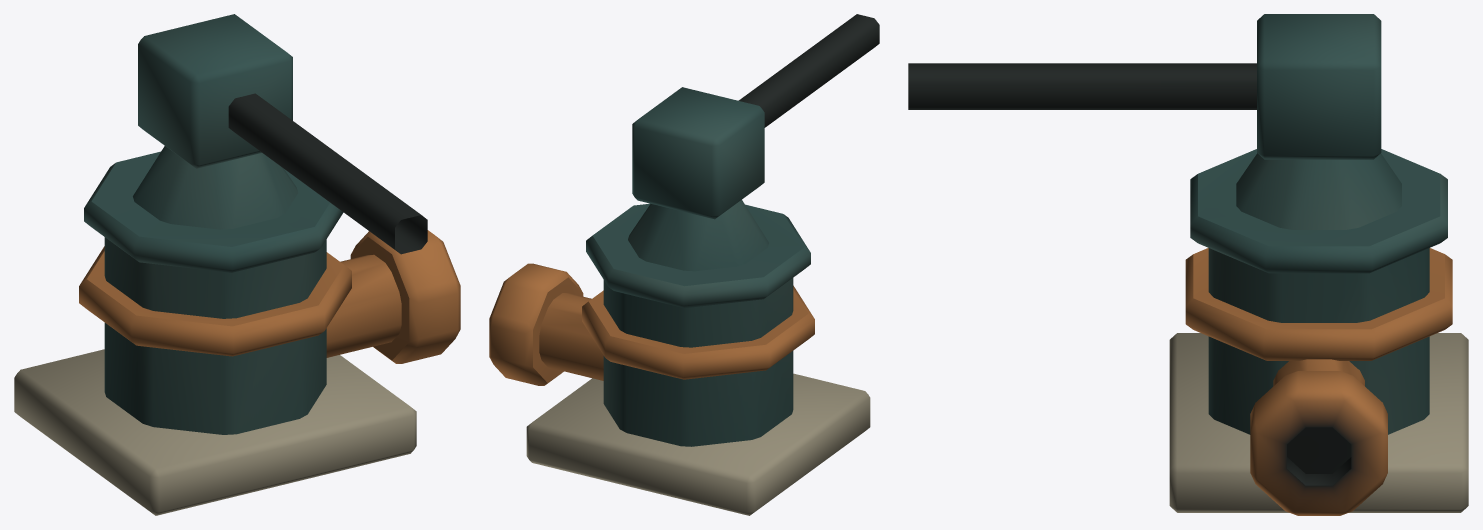
The model's file is valve_wheel_mount.glb.
The picture shows the model from 3 angles, left to right: view 1: azimuth 30°, elevation 25°; view 2: azimuth 150°, elevation 25°; view 3: azimuth 270°, elevation 25°; orthographic projection. The views are drawn at different scales.
Parts seen in each view (by area): view 1: Mount; view 2: Mount; view 3: Mount.
Part boxes in pixels (x1=…): Mount: x1=14, y1=14, x2=460, y2=515; Mount: x1=489, y1=14, x2=879, y2=515; Mount: x1=908, y1=14, x2=1468, y2=515.
Size of the model in its own units: 1.7 by 1.82 by 2.25.
